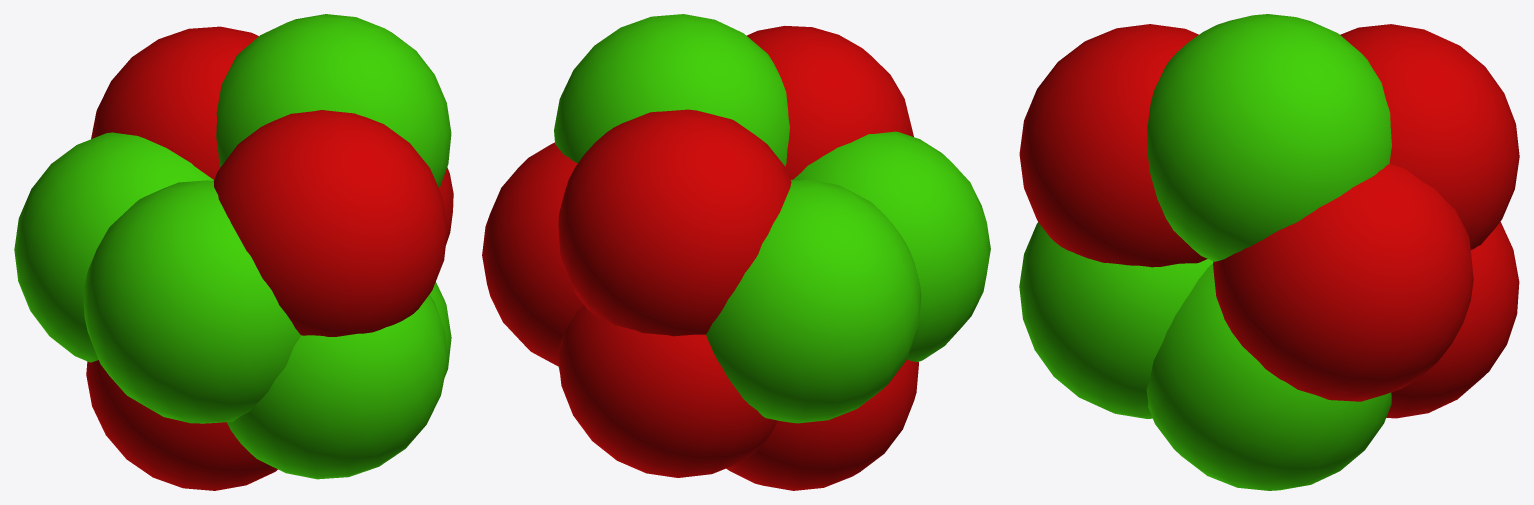
The model's file is Ne_core.fbx.
3 views of the same model, side by side, from view 1: azimuth 30°, elevation 25°; view 2: azimuth 150°, elevation 25°; view 3: azimuth 270°, elevation 25° (orthographic). The views are drawn at different scales.
Visible parts, largest first — view 1: Cloner_1; view 2: Cloner_1; view 3: Cloner_1.
Part boxes in pixels (x1,y1,x2,y2): Cloner_1: (14, 14, 453, 490); Cloner_1: (482, 14, 990, 490); Cloner_1: (1019, 14, 1519, 490).
Bounding box in the file's own units: 554 × 555 × 556.
